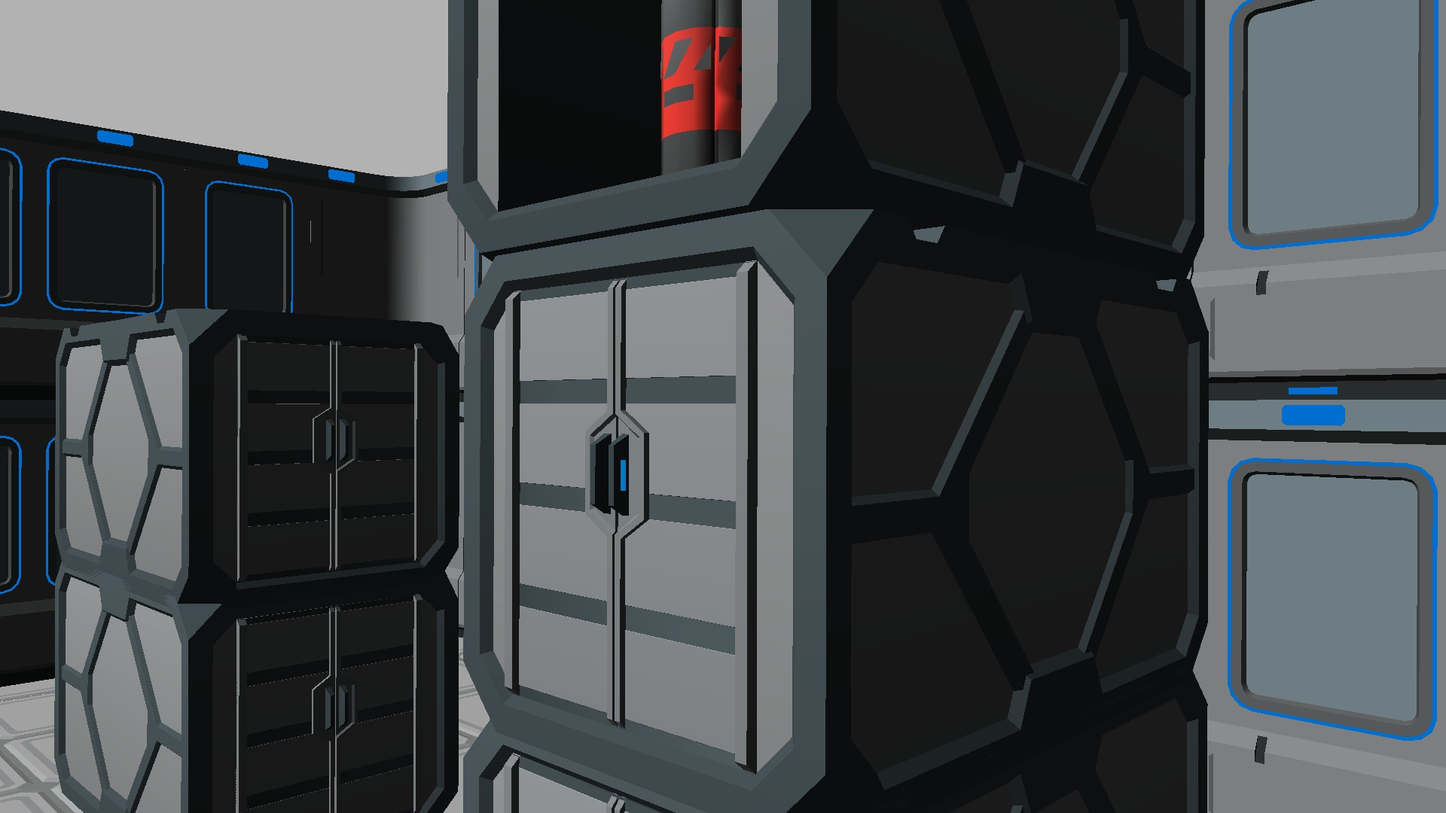red barrel: (660, 0, 742, 175)
